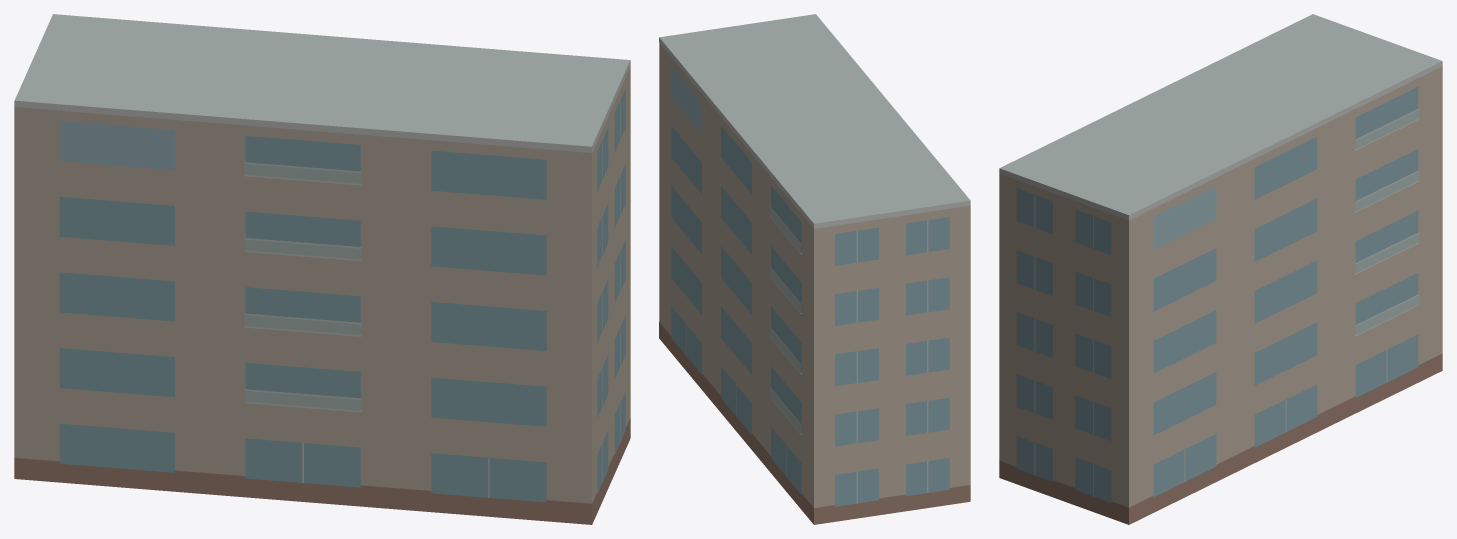
Rendered from survey-upis-32985338.glb.
3 renders of one model, left to right at view 1: azimuth 30°, elevation 25°; view 2: azimuth 150°, elevation 25°; view 3: azimuth 270°, elevation 25°, orthographic. The views are drawn at different scales.
Parts seen in each view (by area): view 1: survey-upis-32985338.tmp; view 2: survey-upis-32985338.tmp; view 3: survey-upis-32985338.tmp.
Part boxes in pixels (x1,y1,x2,y2): survey-upis-32985338.tmp: [14, 14, 630, 524]; survey-upis-32985338.tmp: [659, 14, 970, 524]; survey-upis-32985338.tmp: [999, 14, 1442, 524].
Size of the model in its own units: 20.15 by 14.45 by 18.75.
